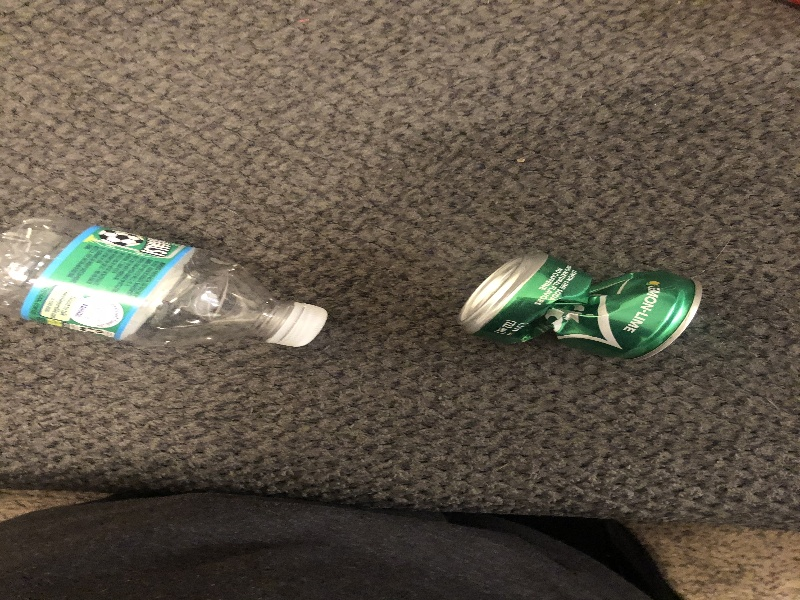metal: (448, 244, 705, 365)
plastic: (1, 207, 331, 351)
